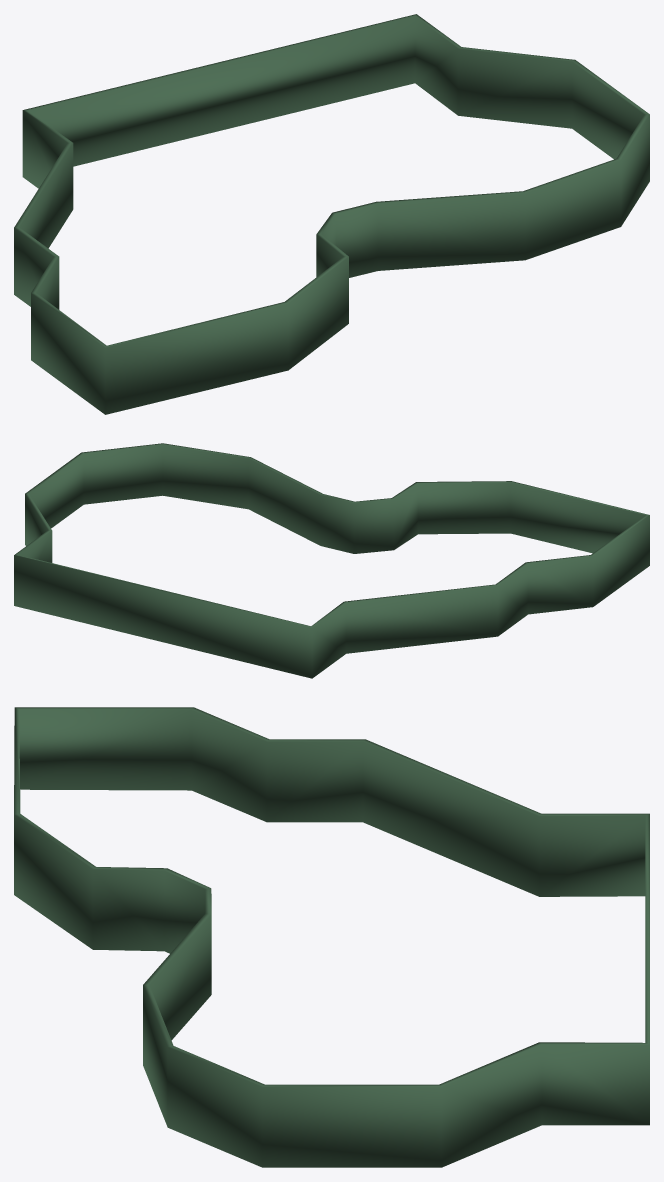
3 views of the same model, one above another, from view 1: azimuth 30°, elevation 25°; view 2: azimuth 150°, elevation 25°; view 3: azimuth 270°, elevation 25° (orthographic). The views are drawn at different scales.
Parts seen in each view (by area): view 1: Base.003; view 2: Base.003; view 3: Base.003.
Boxes of the visible parts, box(x1,y1,x2,y2) form: Base.003: box(14, 14, 649, 414); Base.003: box(14, 443, 649, 678); Base.003: box(14, 707, 649, 1167).
Bounding box in the file's own units: 2023 × 200 × 1431.
